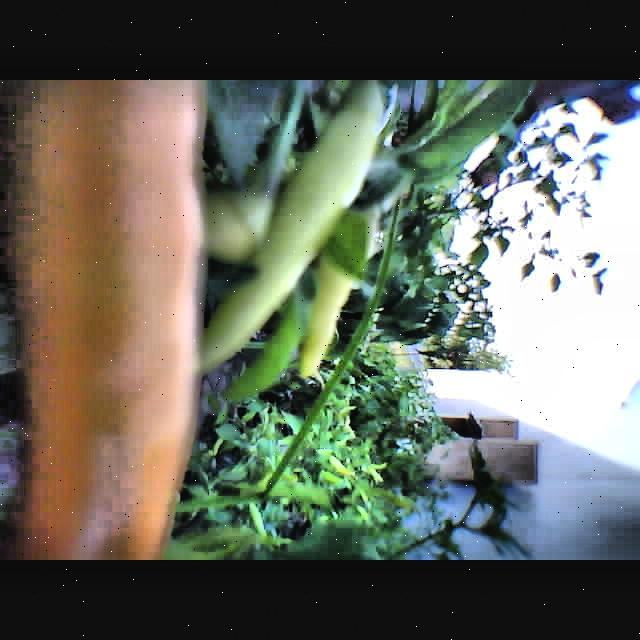Cabai: (1, 80, 187, 560)
